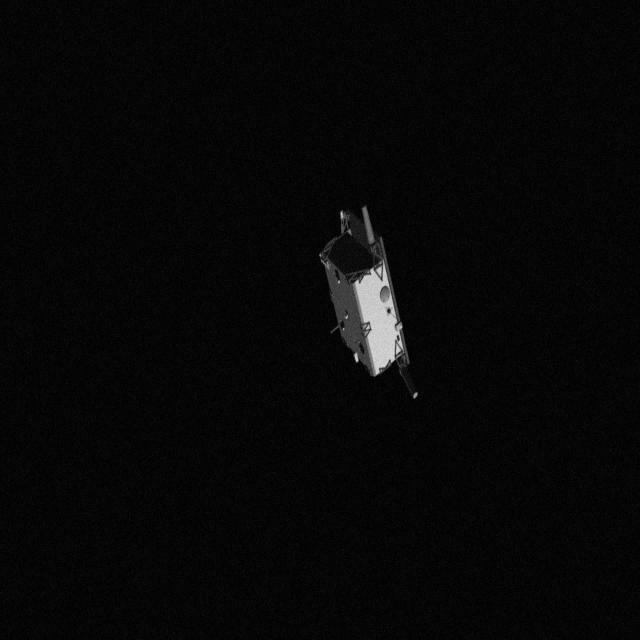satellite: (316, 202, 430, 398)
